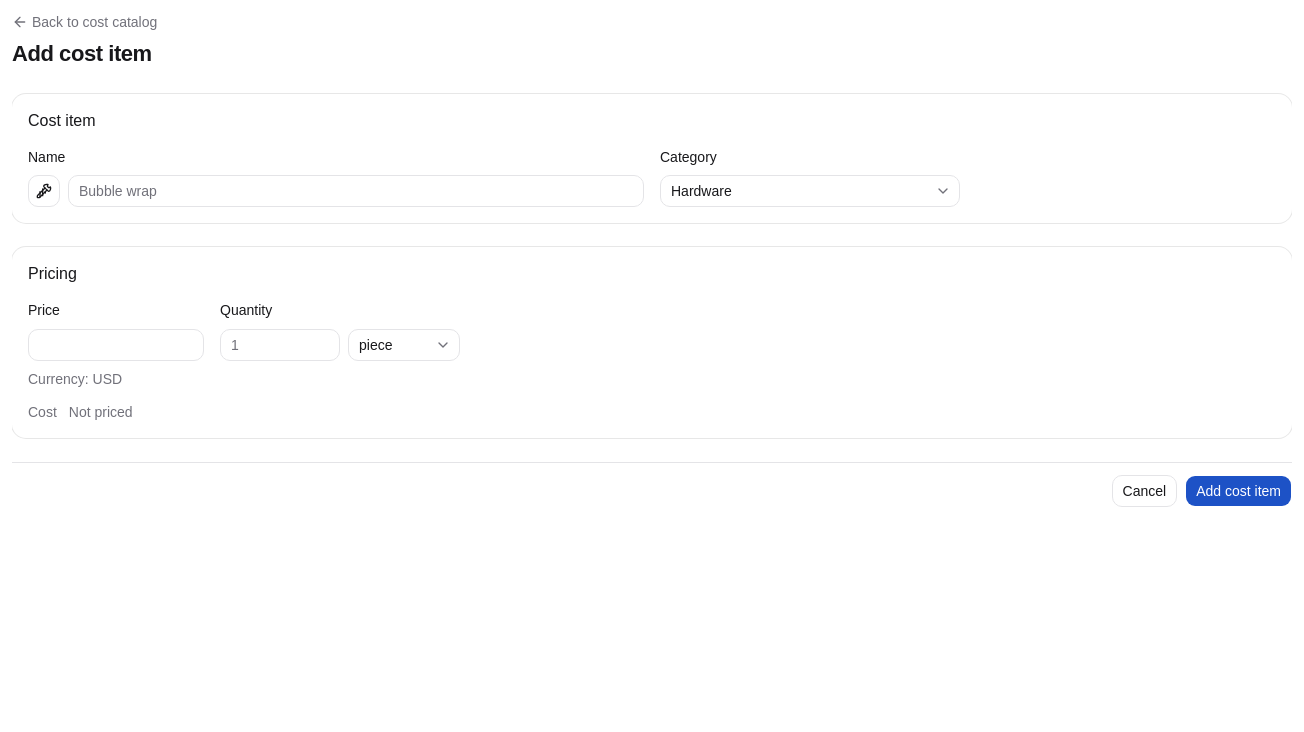
Test case: Guided cost editor › keeps price and quantity when the unit changes
Type "40" into the number field labelled "Price" at (116, 344), box top-left (28, 328), bottom-right (204, 360)
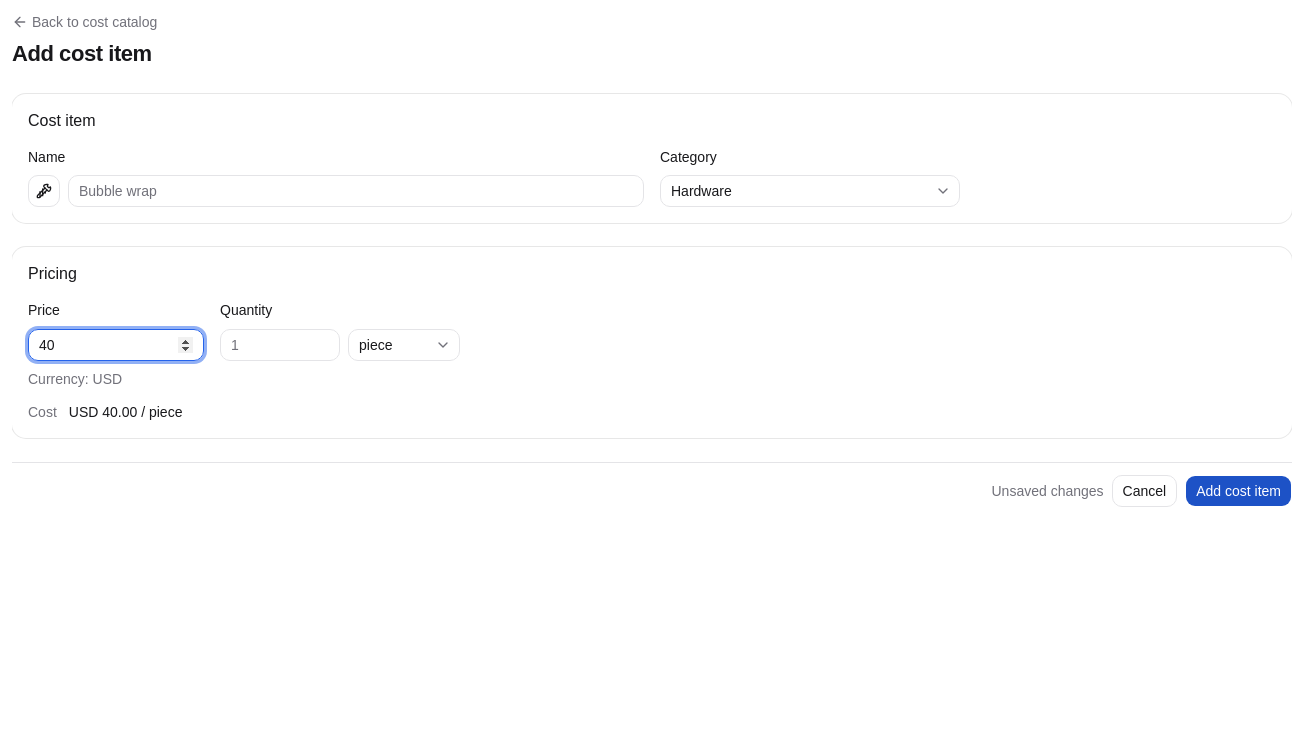
Type "100" into the number field labelled "Quantity" at (280, 344), box top-left (220, 328), bottom-right (340, 360)
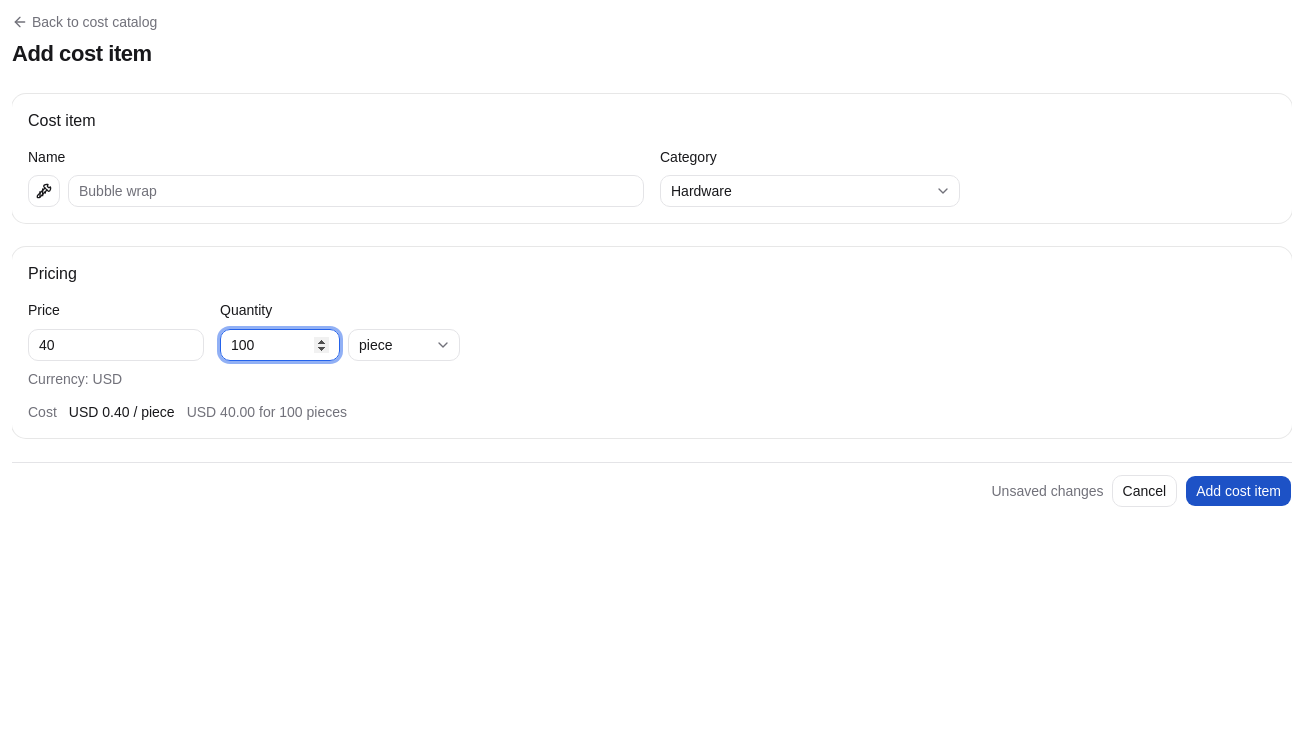
Click the dropdown named "Unit" at (404, 344), box top-left (348, 328), bottom-right (460, 360)
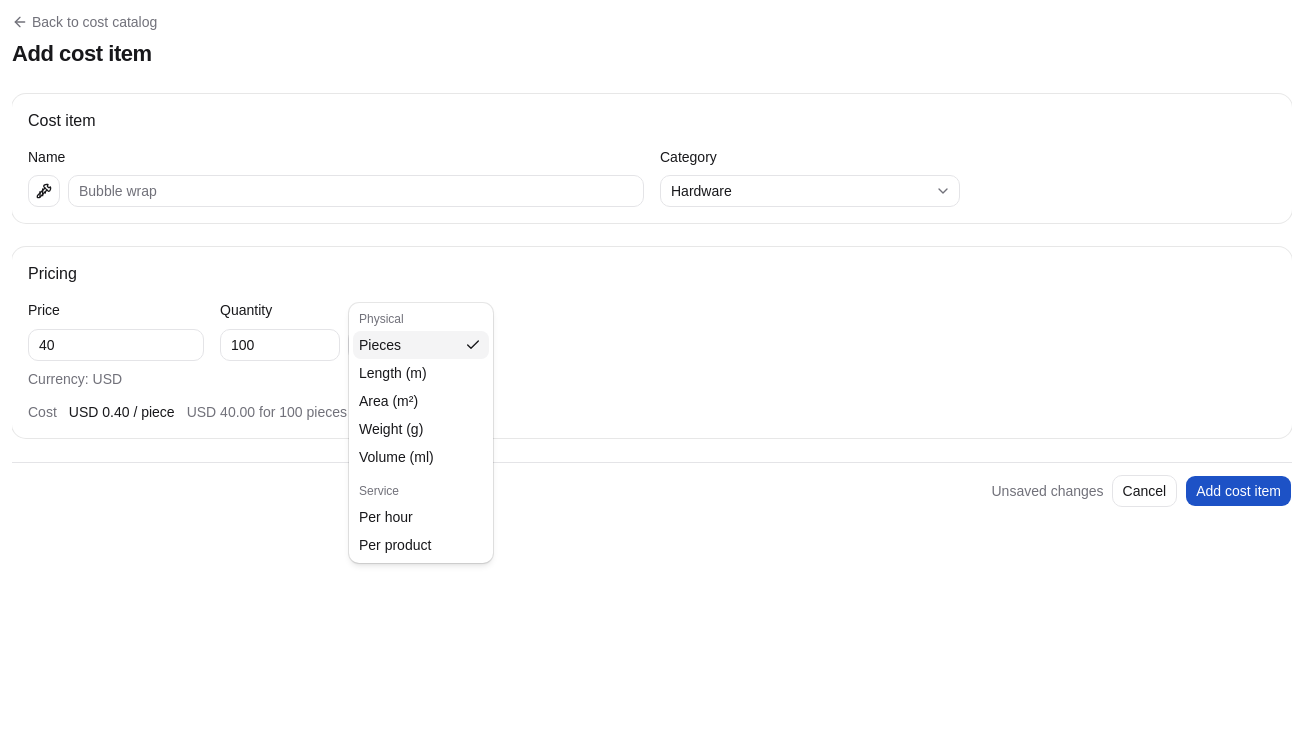
Click the option "Area (m²)" at (389, 400), box top-left (359, 392), bottom-right (418, 408)
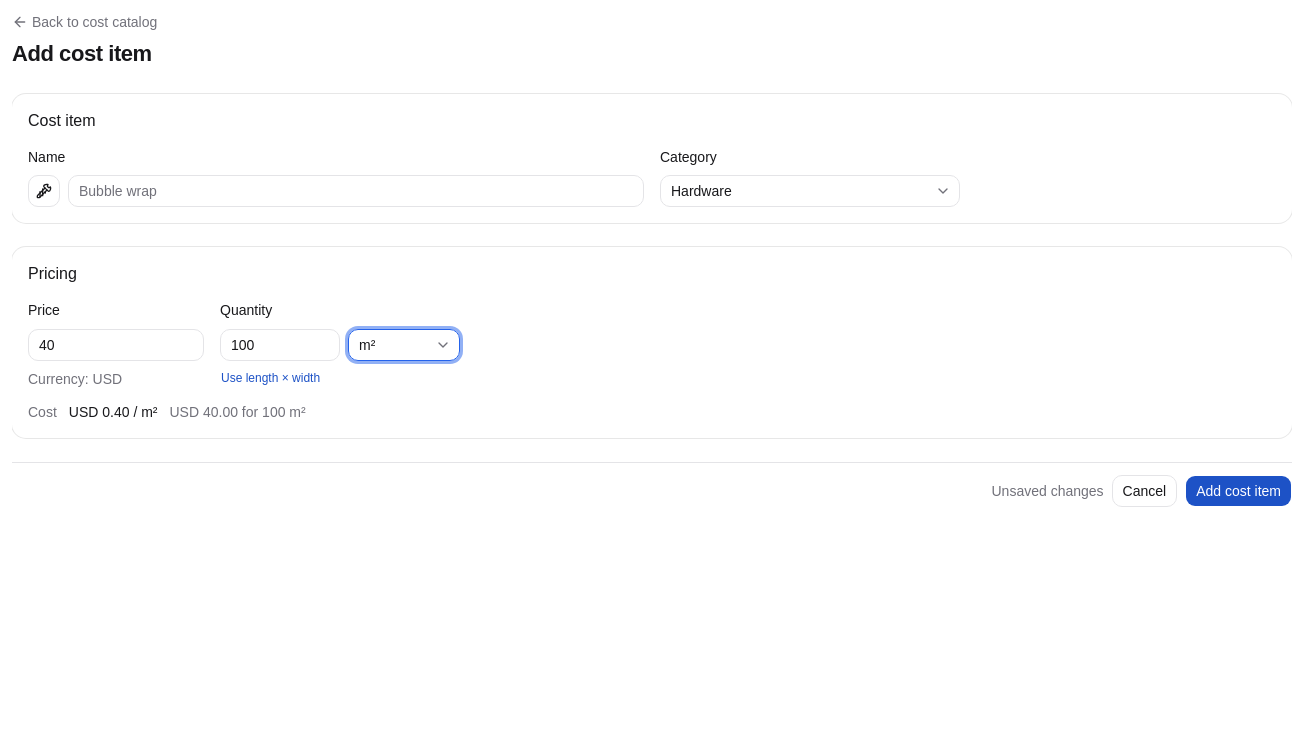
Check: the text "USD 0.40 / m²" is shown, box top-left (69, 402), bottom-right (158, 422)
